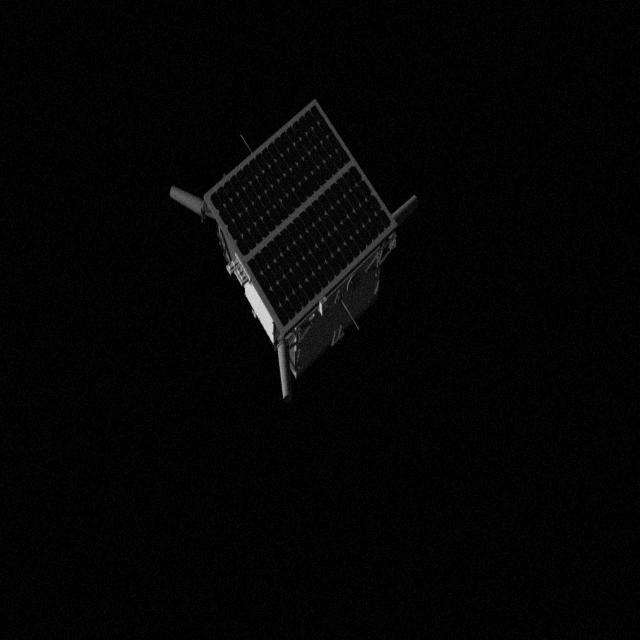satellite: (166, 94, 422, 410)
